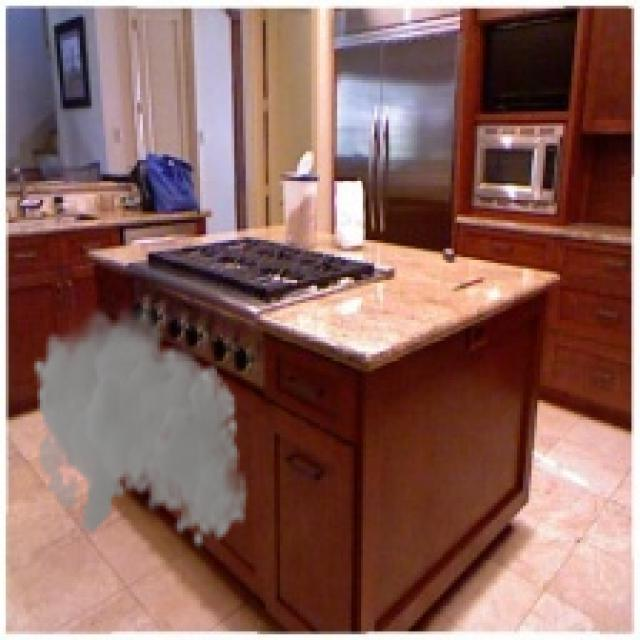smoke: (32, 297, 248, 549)
